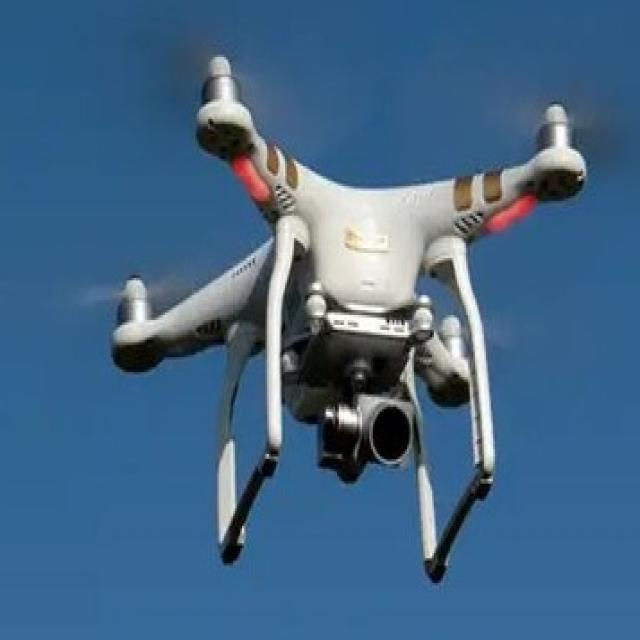drone: (54, 9, 617, 619)
